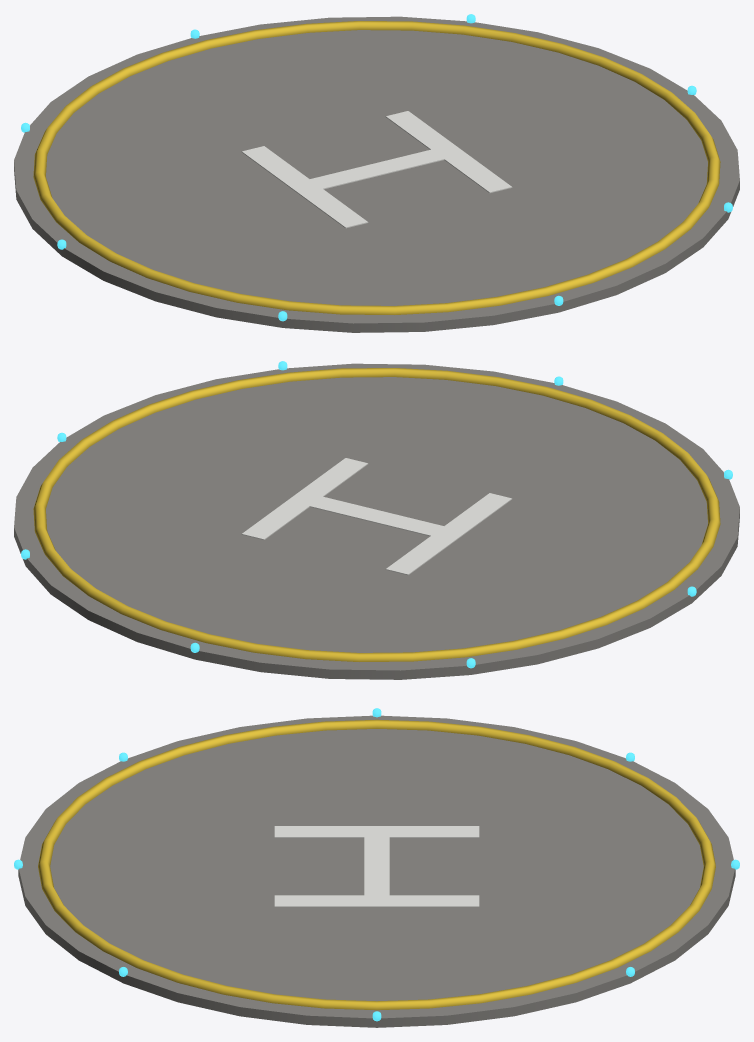
Rendered from base_helipad.glb.
3 views of the same model, one above another, from view 1: azimuth 30°, elevation 25°; view 2: azimuth 150°, elevation 25°; view 3: azimuth 270°, elevation 25° (orthographic).
Visible parts, largest first — view 1: helipad; view 2: helipad; view 3: helipad.
Part boxes in pixels (x1,y1,x2,y2): helipad: (14, 14, 739, 332); helipad: (14, 361, 739, 679); helipad: (14, 708, 739, 1027).
Bounding box in the file's own units: 14.2 × 0.35 × 14.17.
